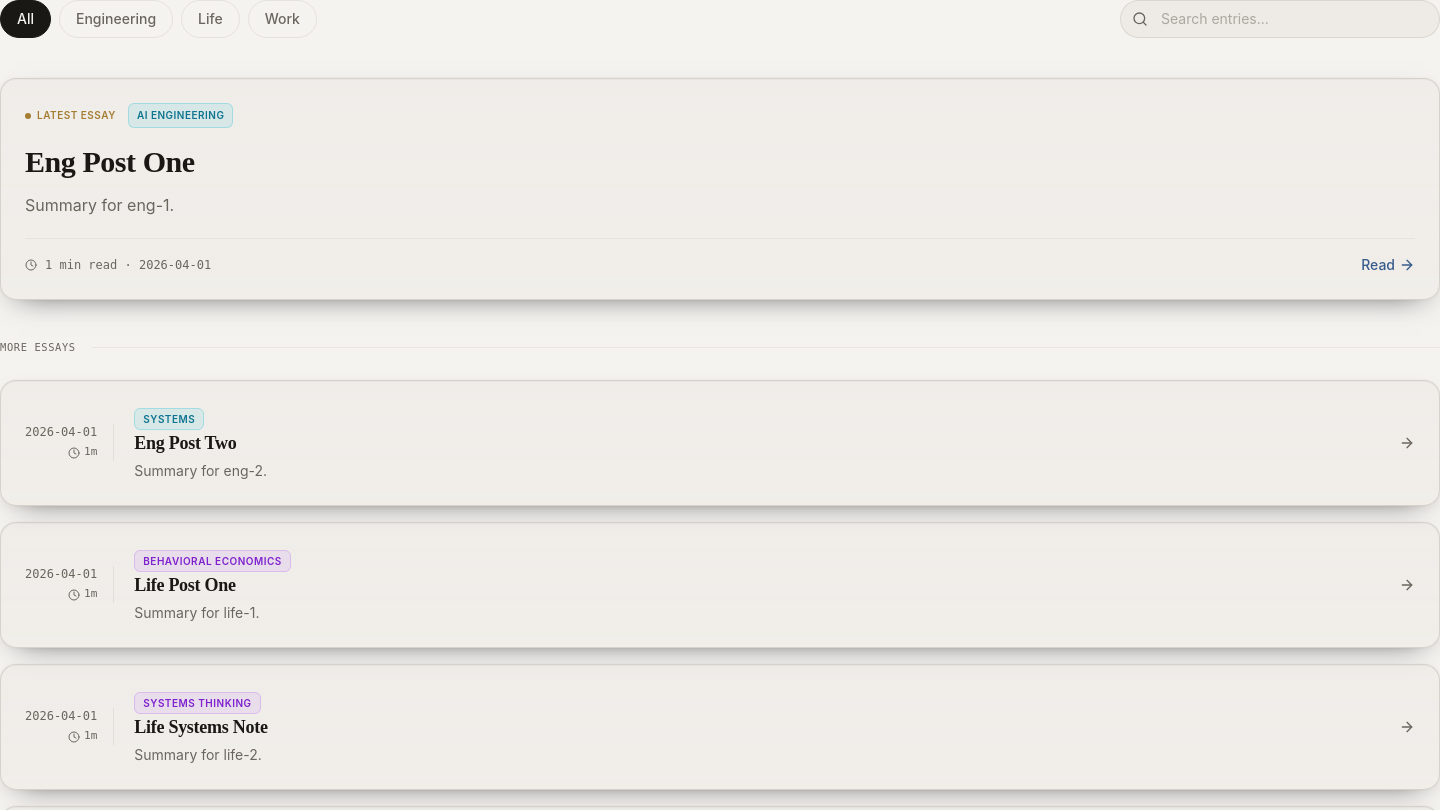
Scenario: JournalList — filters derived from content (no dead pills) › narrows the list when a domain filter is selected
Click the button "Life" at (210, 19), box left=181, top=0, right=240, bottom=38
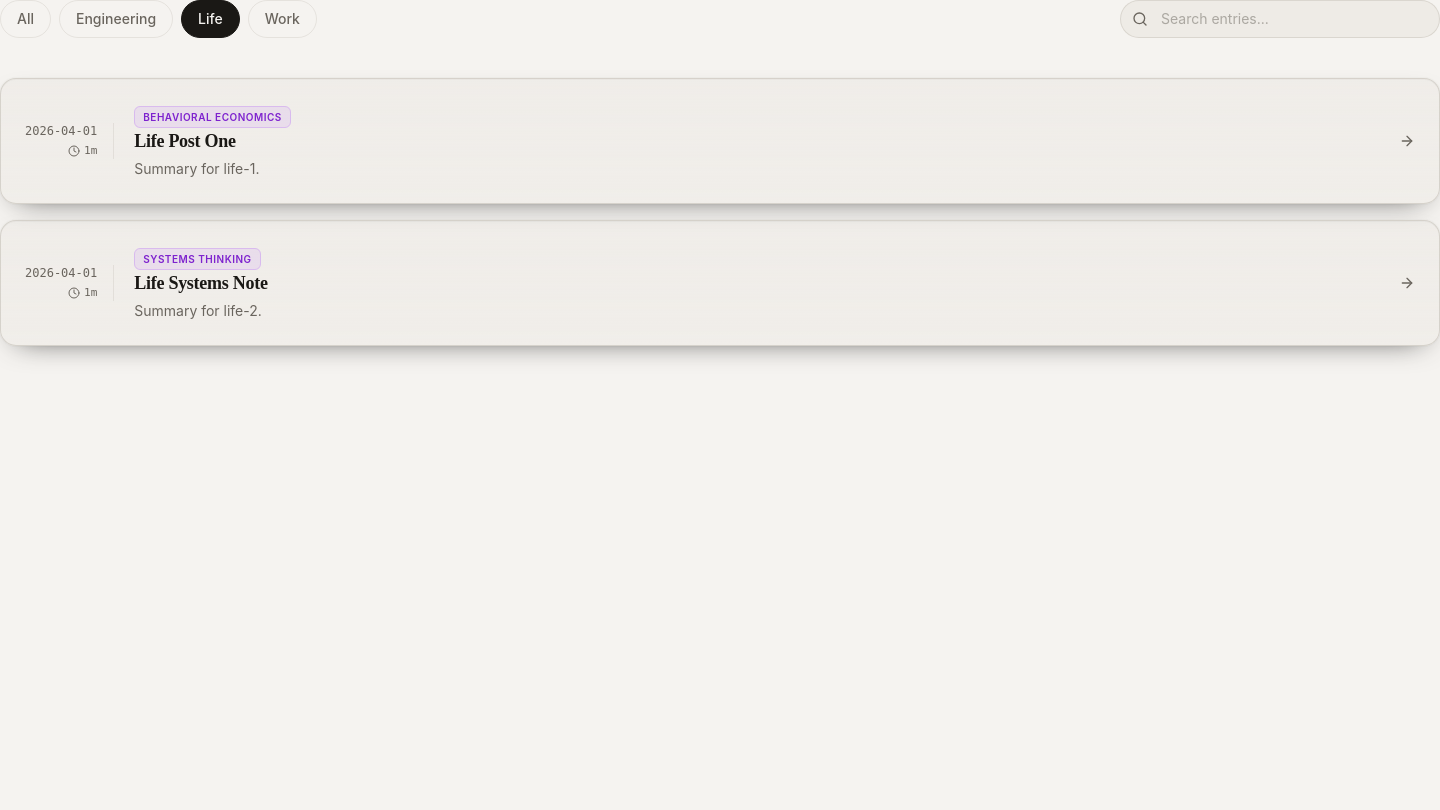
Expected: the heading "Life Post One" is shown, left=134, top=131, right=236, bottom=151
Now the link "Eng Post One" is gone
